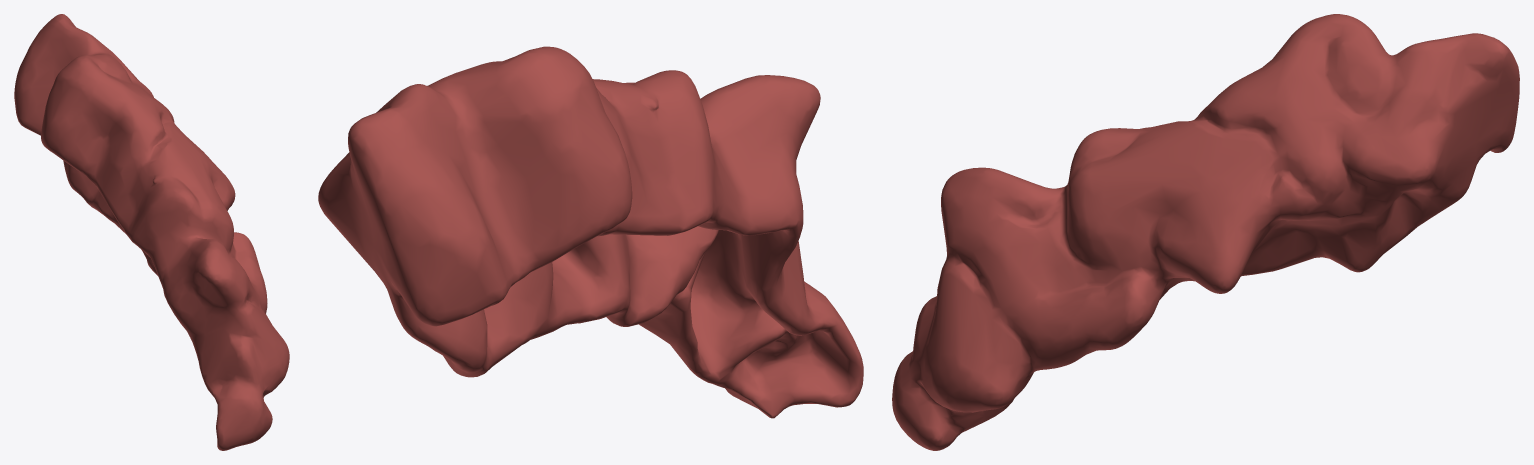
File: FMA72656.glb
The picture shows the model from 3 angles, left to right: view 1: azimuth 30°, elevation 25°; view 2: azimuth 150°, elevation 25°; view 3: azimuth 270°, elevation 25°; orthographic projection. The views are drawn at different scales.
Parts seen in each view (by area): view 1: FMA72656; view 2: FMA72656; view 3: FMA72656.
Part boxes in pixels (x1,y1,x2,y2): FMA72656: (14, 14, 289, 450); FMA72656: (318, 46, 863, 418); FMA72656: (892, 14, 1519, 450).
Size of the model in its own units: 0.0328 by 0.0588 by 0.081.
